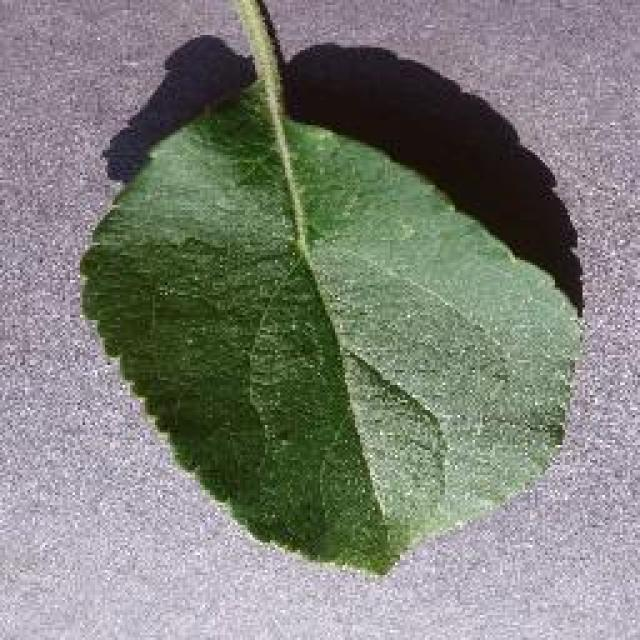apple healthy: (75, 8, 587, 580)
